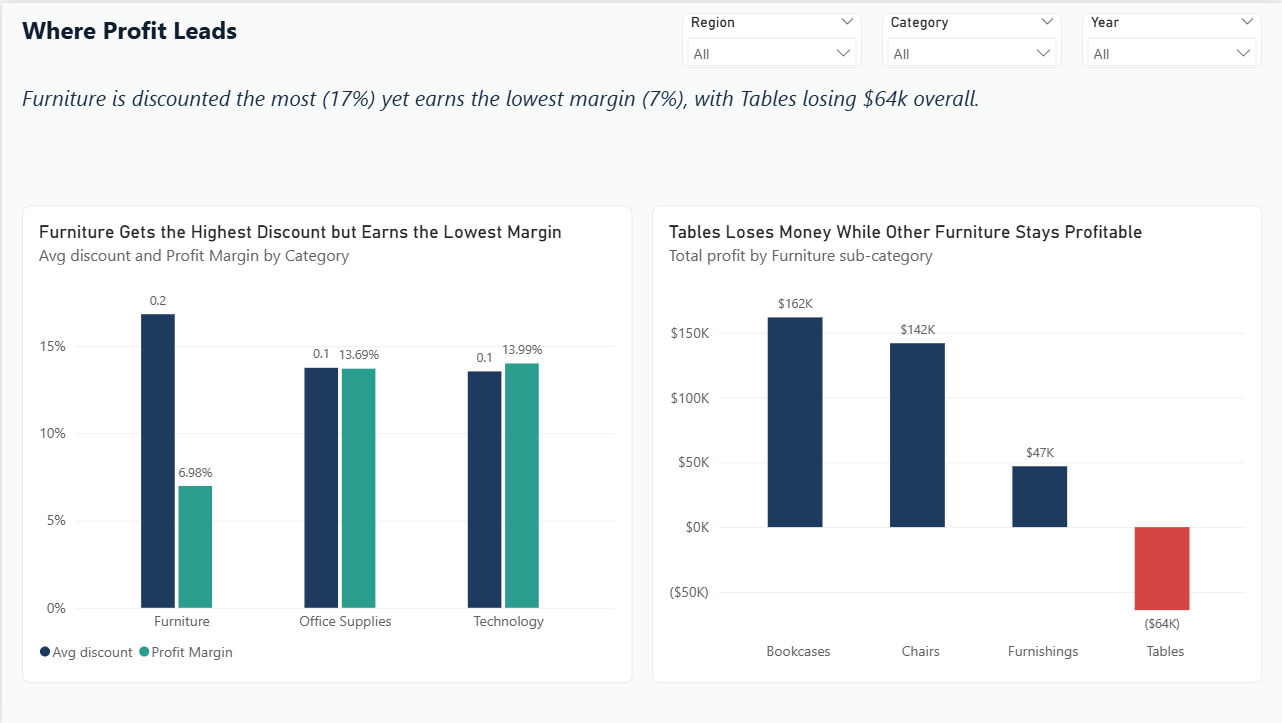

Layout of this report page (visuals, bound fields, positions):
{"tool":"powerbi","page":{"name":"Profit Deep-Dive","canvas":[1280,720],"ordinal":1},"visuals":[{"type":"clusteredColumnChart","title":"Tables Loses Money While Other Furniture Stays Profitable","fields":{"Category":["superstore_project superstore_sales.sub_category"],"Y":["Sum(superstore_project superstore_sales.profit)"]},"box":[650,202.5,610,477.5],"z":0},{"type":"clusteredColumnChart","title":"Furniture Gets the Highest Discount but Earns the Lowest Margin","fields":{"Category":["superstore_project superstore_sales.category"],"Y":["Avg(superstore_project superstore_sales.discount)","superstore_project superstore_sales.Profit Margin"]},"box":[20,202.5,610,477.5],"z":1000},{"type":"textbox","box":[20,10,640,50],"z":2000},{"type":"textbox","box":[20,80,1240,50],"z":3000},{"type":"slicer","fields":{"Values":["superstore_project superstore_sales.region"]},"box":[680,10,180,55],"z":4000},{"type":"slicer","fields":{"Values":["superstore_project superstore_sales.category"]},"box":[880,10,180,55],"z":5000},{"type":"slicer","fields":{"Values":["superstore_project superstore_sales.year"]},"box":[1080,10,180,55],"z":6000}]}

Visuals, with their boxes in screenshot pixels (x1, y1, x2, y2), scaled from the page's 1280x720 canvas onto the 1282x723 screenshot:
"Tables Loses Money While Other Furniture Stays Profitable" clusteredColumnChart: locate(651, 203, 1262, 683)
"Furniture Gets the Highest Discount but Earns the Lowest Margin" clusteredColumnChart: locate(20, 203, 631, 683)
textbox: locate(20, 10, 661, 60)
textbox: locate(20, 80, 1262, 131)
slicer - superstore_project superstore_sales.region: locate(681, 10, 861, 65)
slicer - superstore_project superstore_sales.category: locate(881, 10, 1062, 65)
slicer - superstore_project superstore_sales.year: locate(1082, 10, 1262, 65)
